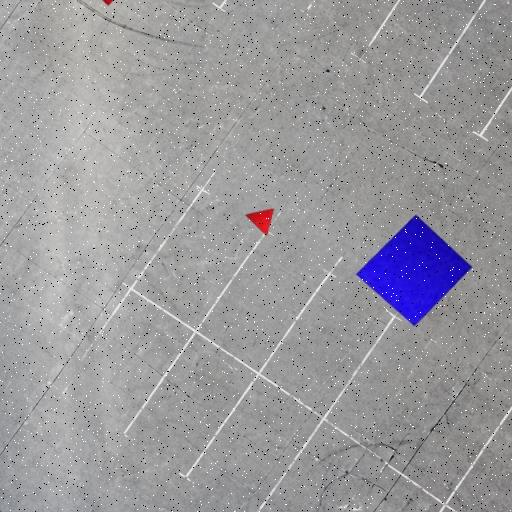BLUE_SQUARE: (355, 214, 473, 327)
